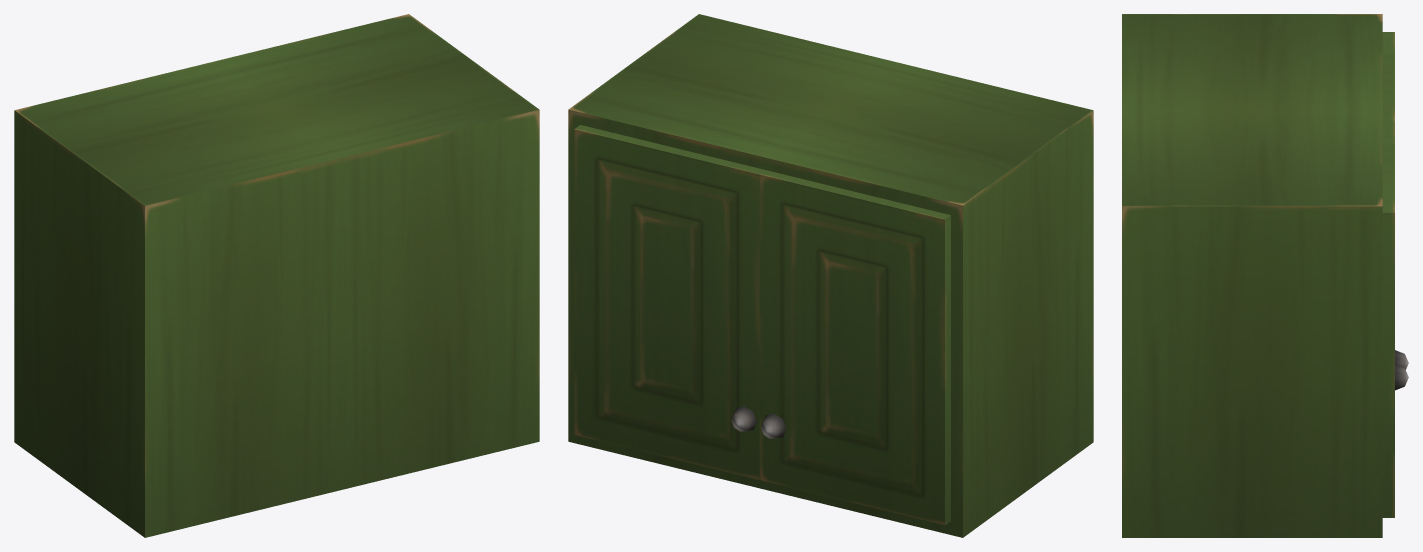
The model's file is FUR0110012.fbx.
3 views of the same model, side by side, from view 1: azimuth 30°, elevation 25°; view 2: azimuth 150°, elevation 25°; view 3: azimuth 270°, elevation 25° (orthographic).
Parts seen in each view (by area): view 1: smFUR0110012; view 2: smFUR0110012; view 3: smFUR0110012.
Boxes of the visible parts, <box> form: smFUR0110012: <box>14,14,539,537</box>; smFUR0110012: <box>568,14,1093,537</box>; smFUR0110012: <box>1122,14,1408,537</box>.
Size of the model in its own units: 109 by 87.93 by 68.9.
Materials: 1 (1 with a texture image).
